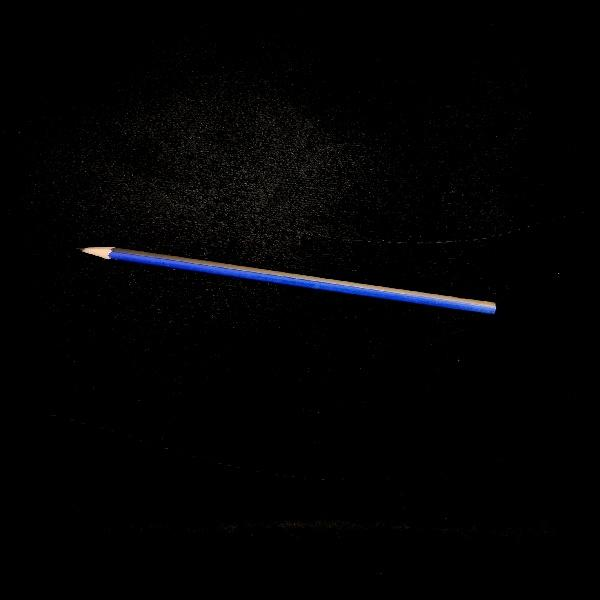pencil: (76, 234, 501, 318)
